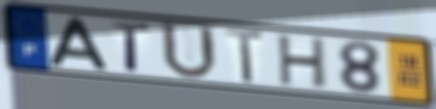8: (335, 39, 383, 95)
A: (46, 16, 110, 71)
H: (277, 33, 328, 91)
T: (223, 27, 267, 86), (110, 19, 153, 74)
U: (159, 20, 221, 82)
